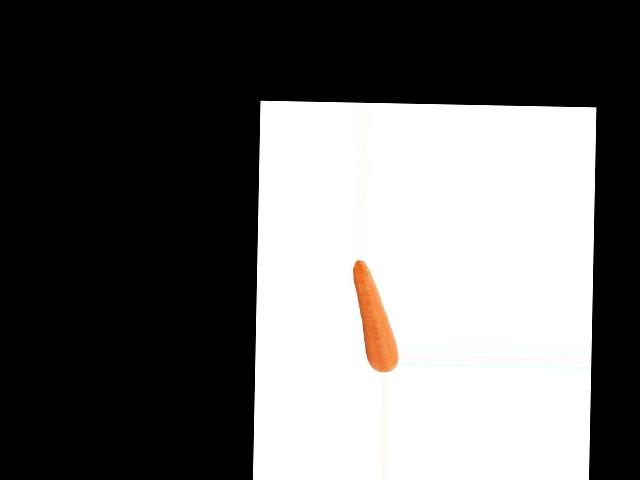carrot: (346, 257, 400, 354)
